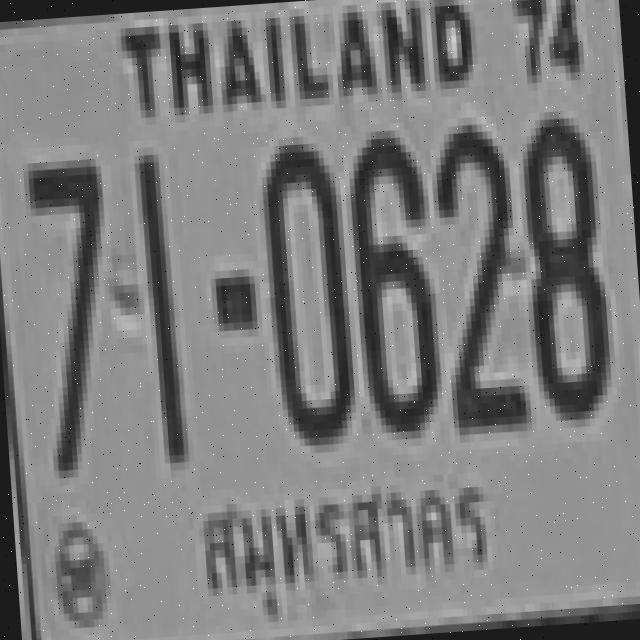0: (256, 134, 350, 440)
1: (136, 150, 186, 460)
2: (428, 115, 526, 428)
6: (341, 128, 439, 434)
7: (22, 151, 116, 471)
8: (515, 109, 608, 414)
SamutSakhon: (187, 472, 508, 632)
